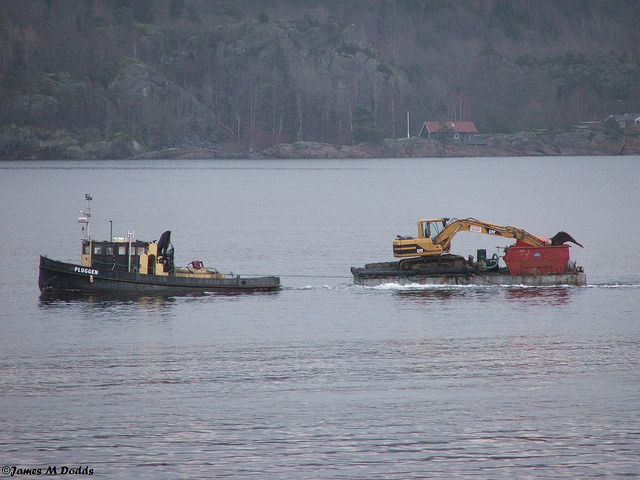tug_boat: (28, 210, 284, 307)
